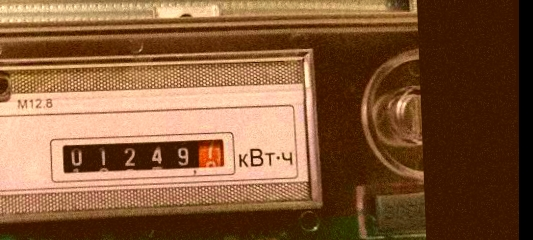0: (69, 146, 83, 166)
1: (96, 145, 108, 166)
2: (121, 145, 137, 167)
4: (150, 144, 163, 164)
7: (203, 139, 217, 159)
9: (176, 145, 189, 166)
screen: (46, 127, 239, 184)
